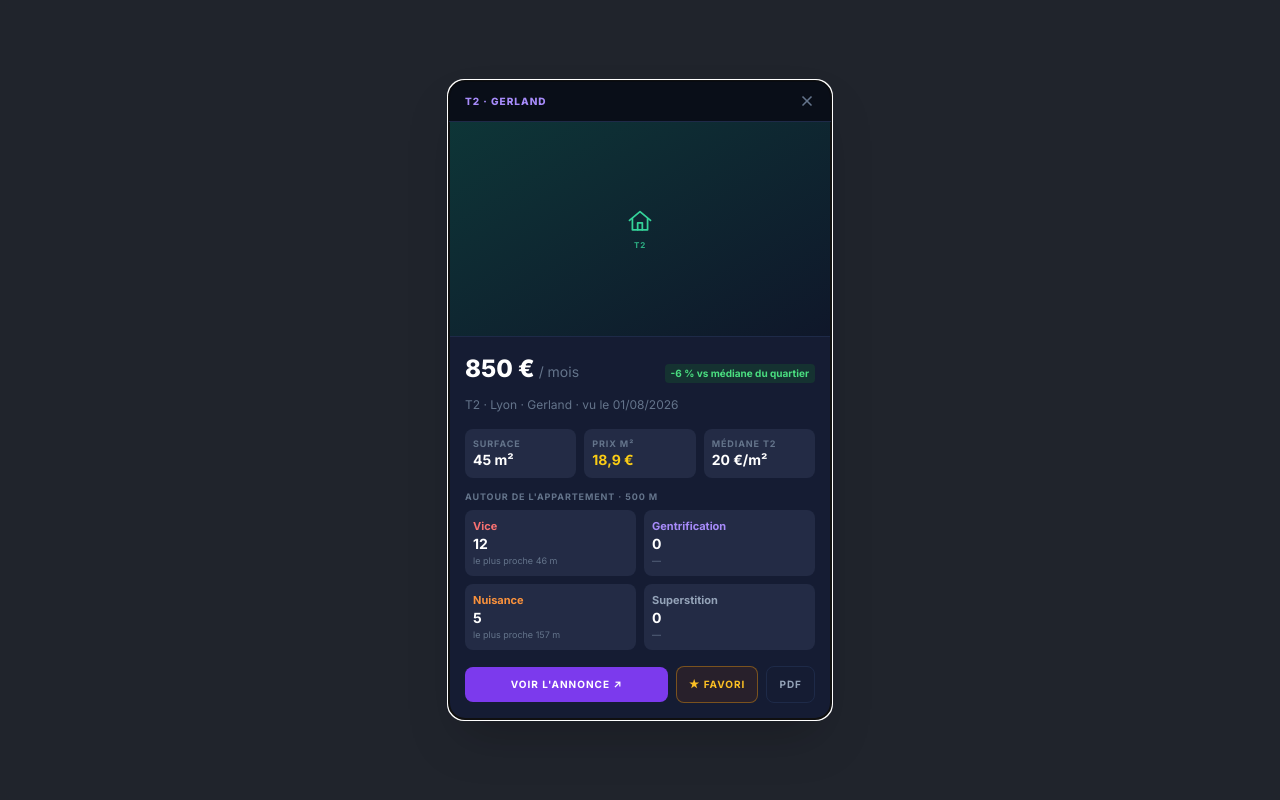
Test: AnnonceDetailModal › favori et export PDF (ORA-174) › shows an error message when the PDF export fails
The width and height of the screenshot is (1280, 800).
expect the text "850 €" is shown: met, box [465, 353, 535, 385]
Click the button with aria-label "exporter en pdf": (791,684) [766, 666, 815, 703]
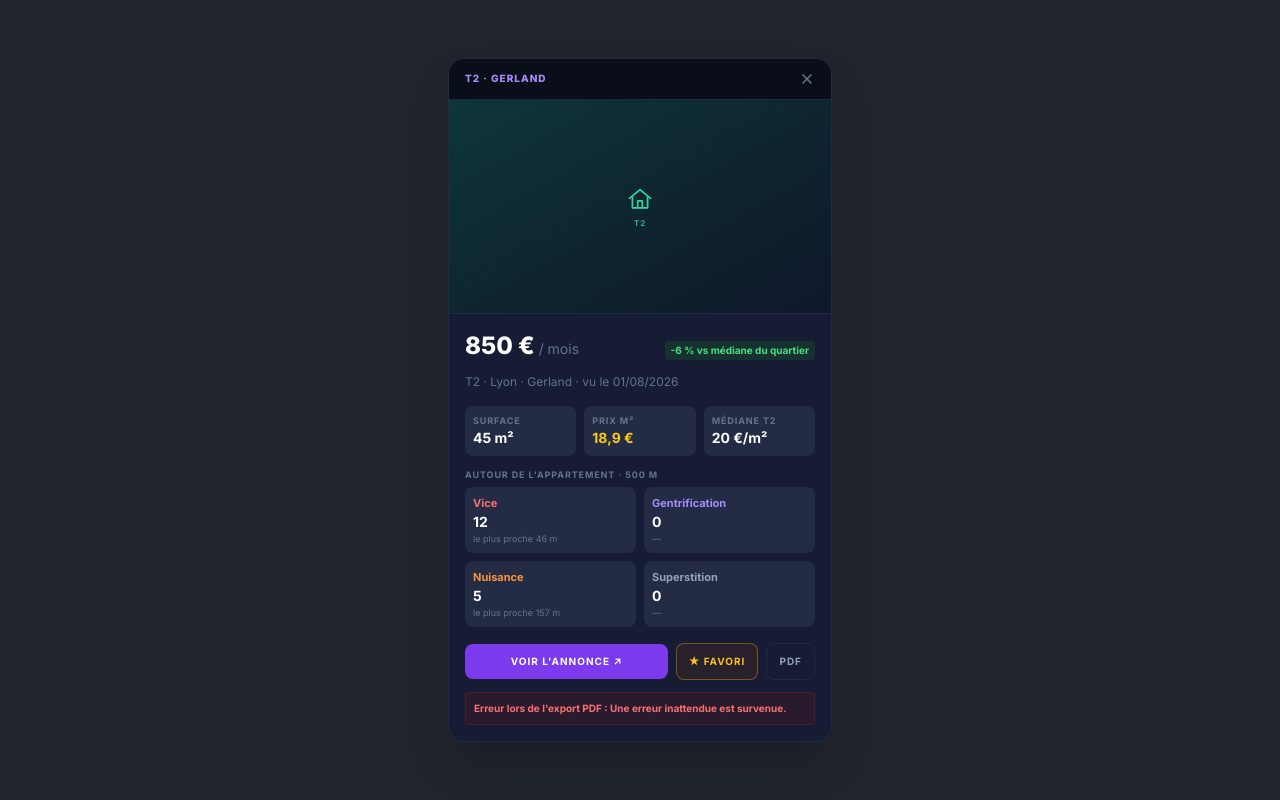
expect the text "Erreur lors de l'export PDF" is shown: met, box [474, 702, 610, 714]
